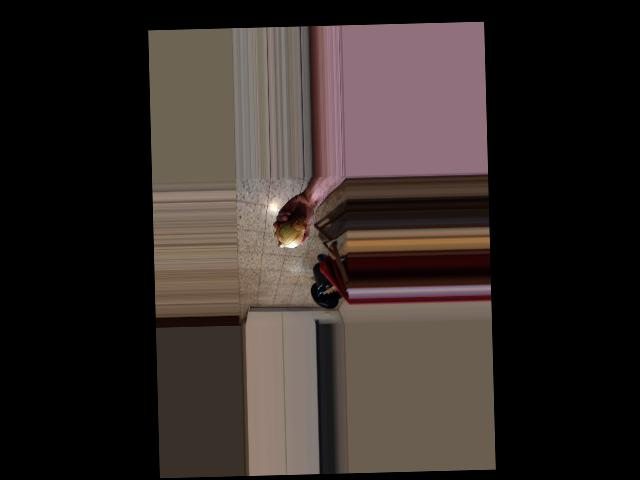onion: (276, 216, 308, 249)
